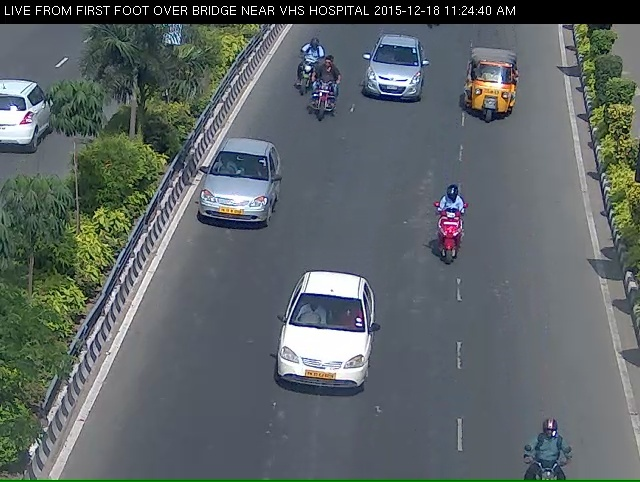Car: (261, 290, 377, 433), (186, 144, 282, 257), (350, 39, 431, 120), (455, 51, 525, 141)
Person: (424, 198, 473, 297), (308, 70, 343, 135), (285, 45, 317, 111)
